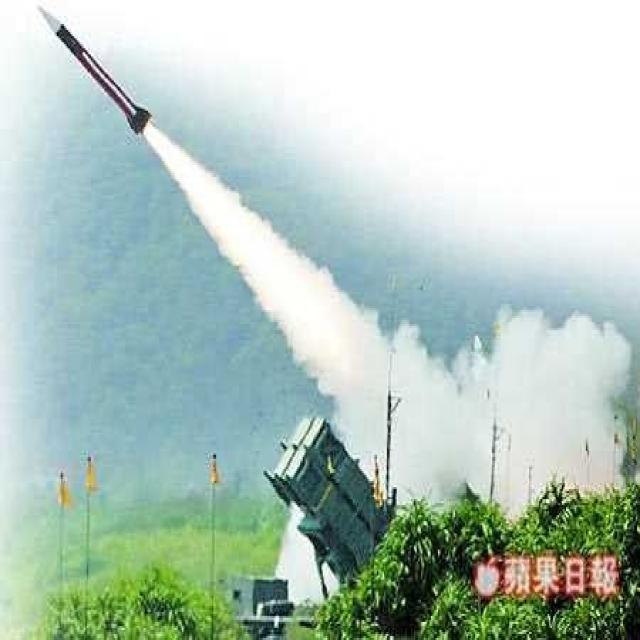missile: (35, 3, 153, 142)
